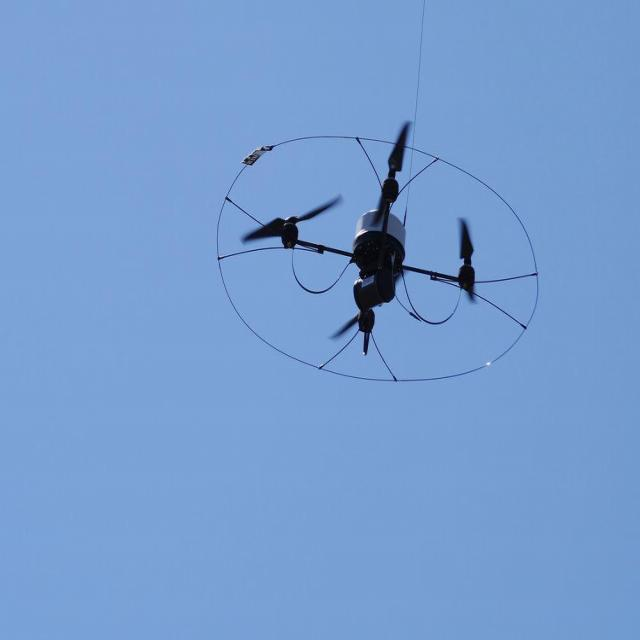UAV: (243, 125, 481, 368)
